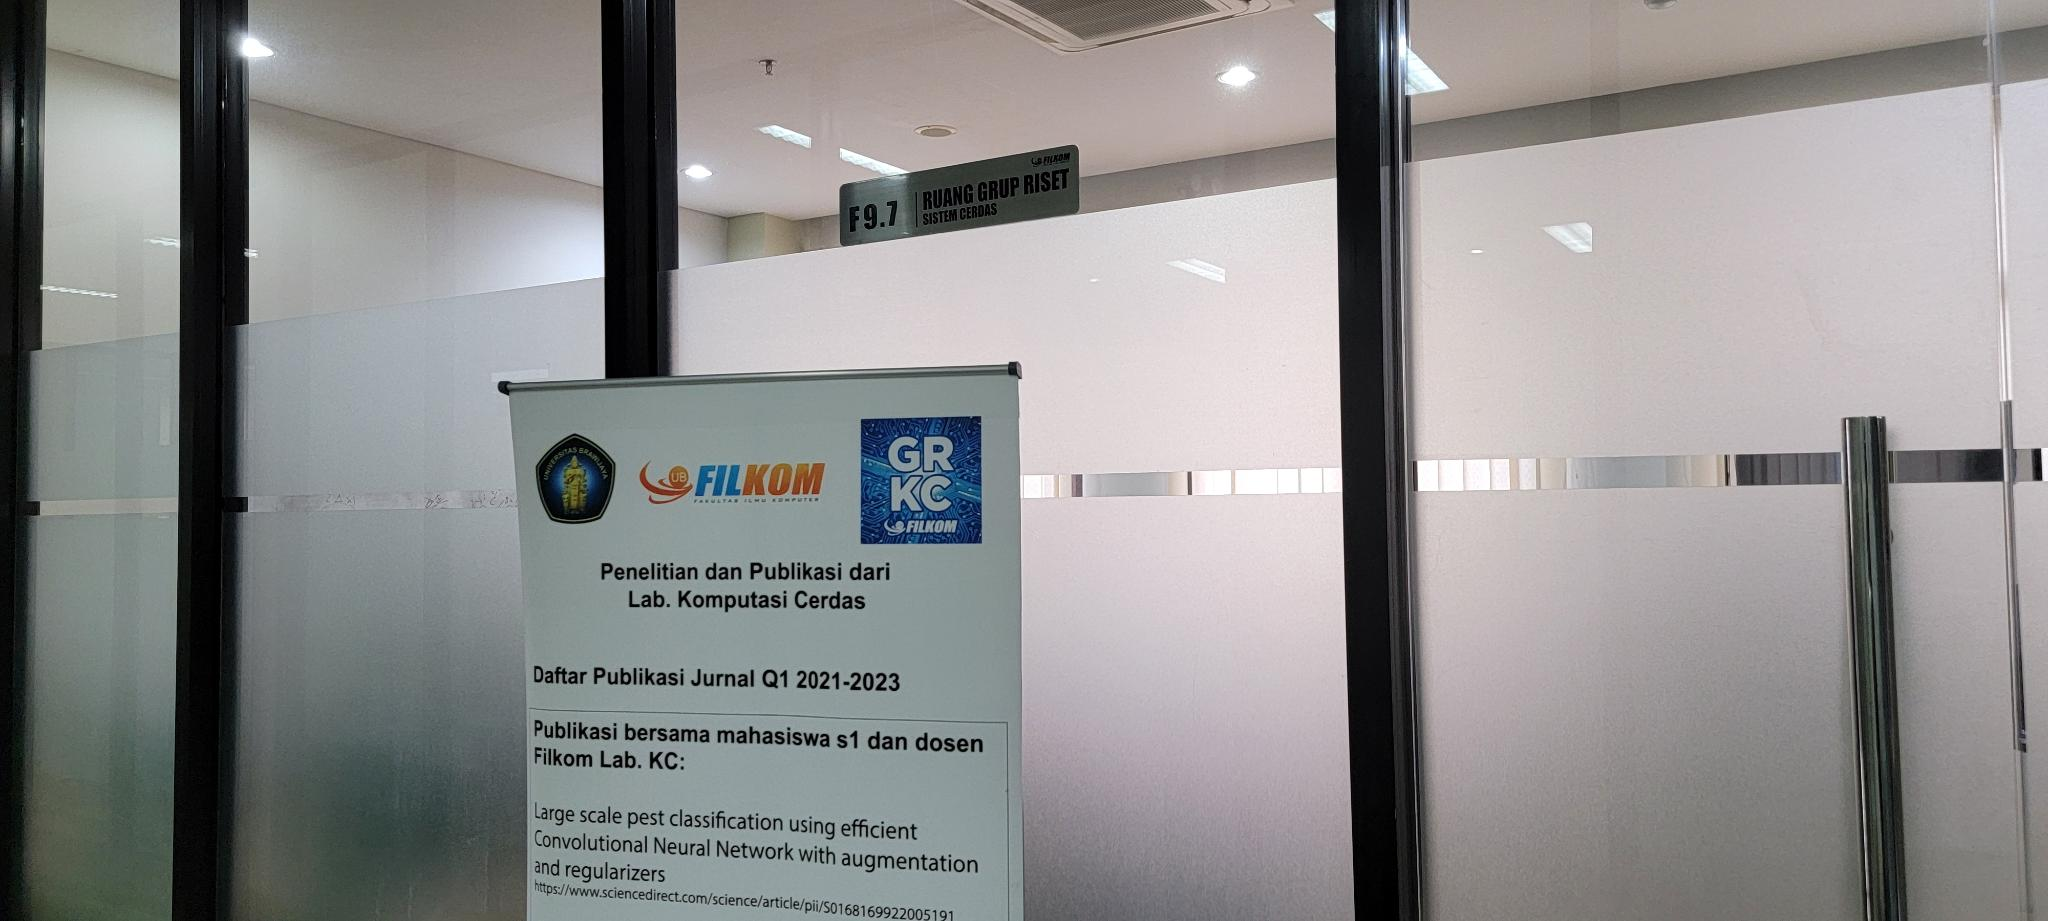plate: (841, 145, 1080, 247)
